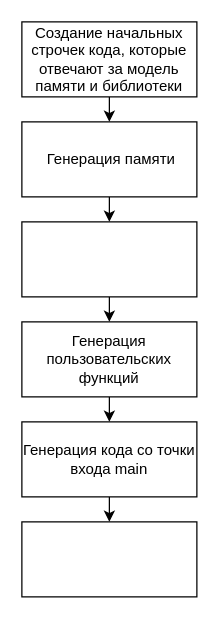
Some shapes in this 219 by 619 pixel diagram are drawn without their labels. Here are the shapes that lost their labels. From the top down, the box of each, then its label:
(21, 221, 197, 297): Генерация основных процедур отвечающих за выполнение операторов языка
(21, 521, 197, 597): Генерация кода, который соответствует концу блока main
